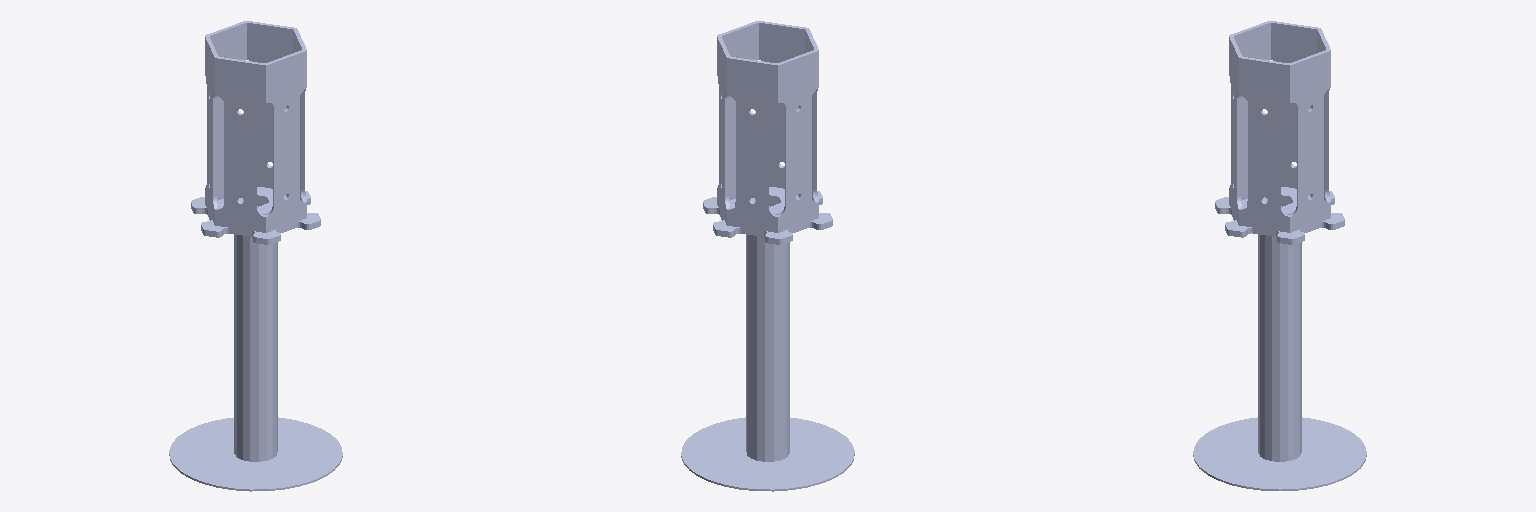
The robot description file, URDF, robot "mounting_d435_v6":
<robot
  name="mounting_d435_v6">
  <link
    name="tripod_link">
    <inertial>
      <origin
        xyz="1.4594E-33 3.5995E-18 0.052882"
        rpy="0 0 0" />
      <mass
        value="0.042726" />
      <inertia
        ixx="0"
        ixy="0"
        ixz="0"
        iyy="0"
        iyz="0"
        izz="0" />
    </inertial>
    <visual>
      <origin
        xyz="0 0 0"
        rpy="0 0 0" />
      <geometry>
        <mesh
          filename="package://mounting_d435_v6/meshes/tripod_link.STL" />
      </geometry>
      <material
        name="">
        <color
          rgba="0.79216 0.81961 0.93333 1" />
      </material>
    </visual>
    <collision>
      <origin
        xyz="0 0 0"
        rpy="0 0 0" />
      <geometry>
        <mesh
          filename="package://mounting_d435_v6/meshes/tripod_link.STL" />
      </geometry>
    </collision>
  </link>
  <link
    name="support_link">
    <inertial>
      <origin
        xyz="1.0467E-07 -1.0782E-06 0.02945"
        rpy="0 0 0" />
      <mass
        value="0.026942" />
      <inertia
        ixx="0"
        ixy="0"
        ixz="0"
        iyy="0"
        iyz="0"
        izz="0" />
    </inertial>
    <visual>
      <origin
        xyz="0 0 0"
        rpy="0 0 0" />
      <geometry>
        <mesh
          filename="package://mounting_d435_v6/meshes/support_link.STL" />
      </geometry>
      <material
        name="">
        <color
          rgba="0.79216 0.81961 0.93333 1" />
      </material>
    </visual>
    <collision>
      <origin
        xyz="0 0 0"
        rpy="0 0 0" />
      <geometry>
        <mesh
          filename="package://mounting_d435_v6/meshes/support_link.STL" />
      </geometry>
    </collision>
  </link>
  <joint
    name="tripod_to_support"
    type="fixed">
    <origin
      xyz="0 0 0.123"
      rpy="-6.0126E-17 1.1576E-17 0.19021" />
    <parent
      link="tripod_link" />
    <child
      link="support_link" />
    <axis
      xyz="0 0 0" />
  </joint>
  <link
    name="camera1_link">
    <inertial>
      <origin
        xyz="0.0017129 2.5534E-06 -0.013507"
        rpy="0 0 0" />
      <mass
        value="0.037509" />
      <inertia
        ixx="1.4392E-06"
        ixy="2.0879E-08"
        ixz="1.004E-07"
        iyy="2.4834E-06"
        iyz="2.5952E-08"
        izz="1.1101E-06" />
    </inertial>
    <visual>
      <origin
        xyz="0 0 0"
        rpy="0 0 0" />
      <geometry>
        <mesh
          filename="package://mounting_d435_v6/meshes/camera1_link.STL" />
      </geometry>
      <material
        name="">
        <color
          rgba="0.79216 0.81961 0.93333 1" />
      </material>
    </visual>
    <collision>
      <origin
        xyz="0 0 0"
        rpy="0 0 0" />
      <geometry>
        <mesh
          filename="package://mounting_d435_v6/meshes/camera1_link.STL" />
      </geometry>
    </collision>
  </link>
  <joint
    name="support_to_camera1"
    type="fixed">
    <origin
      xyz="-0.040444 0.02335 0.037"
      rpy="2.618 -1.5708 0" />
    <parent
      link="support_link" />
    <child
      link="camera1_link" />
    <axis
      xyz="0 0 0" />
  </joint>
  <link
    name="camera2_link">
    <inertial>
      <origin
        xyz="0.0017129 2.4997E-06 -0.013507"
        rpy="0 0 0" />
      <mass
        value="0.037509" />
      <inertia
        ixx="1.4392E-06"
        ixy="2.0877E-08"
        ixz="1.004E-07"
        iyy="2.4834E-06"
        iyz="2.5964E-08"
        izz="1.1101E-06" />
    </inertial>
    <visual>
      <origin
        xyz="0 0 0"
        rpy="0 0 0" />
      <geometry>
        <mesh
          filename="package://mounting_d435_v6/meshes/camera2_link.STL" />
      </geometry>
      <material
        name="">
        <color
          rgba="0.79216 0.81961 0.93333 1" />
      </material>
    </visual>
    <collision>
      <origin
        xyz="0 0 0"
        rpy="0 0 0" />
      <geometry>
        <mesh
          filename="package://mounting_d435_v6/meshes/camera2_link.STL" />
      </geometry>
    </collision>
  </link>
  <joint
    name="support_to_camera2"
    type="fixed">
    <origin
      xyz="-0.040444 0.02335 0.037"
      rpy="1.5708 -1.5708 0" />
    <parent
      link="support_link" />
    <child
      link="camera2_link" />
    <axis
      xyz="0 0 0" />
  </joint>
  <link
    name="camera3_link">
    <inertial>
      <origin
        xyz="0.0017129 2.5327E-06 -0.013507"
        rpy="0 0 0" />
      <mass
        value="0.037509" />
      <inertia
        ixx="1.4392E-06"
        ixy="2.0878E-08"
        ixz="1.004E-07"
        iyy="2.4834E-06"
        iyz="2.596E-08"
        izz="1.1101E-06" />
    </inertial>
    <visual>
      <origin
        xyz="0 0 0"
        rpy="0 0 0" />
      <geometry>
        <mesh
          filename="package://mounting_d435_v6/meshes/camera3_link.STL" />
      </geometry>
      <material
        name="">
        <color
          rgba="0.79216 0.81961 0.93333 1" />
      </material>
    </visual>
    <collision>
      <origin
        xyz="0 0 0"
        rpy="0 0 0" />
      <geometry>
        <mesh
          filename="package://mounting_d435_v6/meshes/camera3_link.STL" />
      </geometry>
    </collision>
  </link>
  <joint
    name="support_to_camera3"
    type="fixed">
    <origin
      xyz="-0.040444 0.02335 0.037"
      rpy="0.5236 -1.5708 0" />
    <parent
      link="support_link" />
    <child
      link="camera3_link" />
    <axis
      xyz="0 0 0" />
  </joint>
</robot>

--- Render facts (derived) ---
The picture shows the robot from 3 angles, left to right: view 1: azimuth 30°, elevation 25°; view 2: azimuth 150°, elevation 25°; view 3: azimuth 270°, elevation 25°; orthographic projection.
Robot: mounting_d435_v6 — 5 links, 4 joints (4 fixed); root link tripod_link; default pose: all joints at 0.
Links seen in each view (by area): view 1: support_link, tripod_link; view 2: support_link, tripod_link; view 3: support_link, tripod_link.
Link boxes in pixels (box(x1,y1,x2,y2)): support_link: box(191, 21, 320, 244); tripod_link: box(169, 234, 342, 491); support_link: box(703, 21, 832, 244); tripod_link: box(681, 234, 854, 491); support_link: box(1215, 21, 1344, 244); tripod_link: box(1193, 234, 1366, 490).
Size in the robot's own frame: 0.08 by 0.08 by 0.209 metres.
2 mesh visuals loaded from 5 distinct referenced files (2 binary STL); not drawn: 3 (reference not matched to a file when rendering).